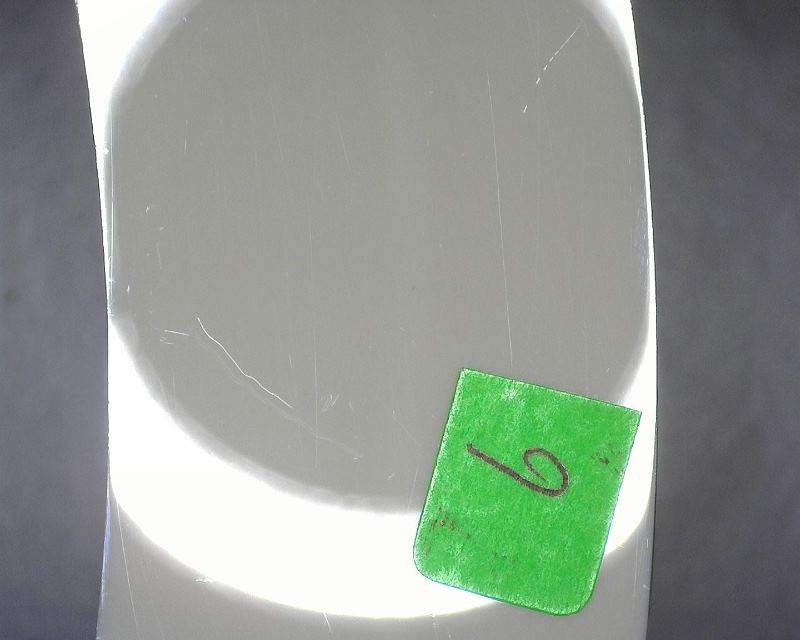scratch: (198, 312, 297, 412), (484, 66, 515, 366), (522, 21, 582, 115), (115, 509, 141, 632), (106, 107, 120, 306), (159, 323, 192, 343), (125, 283, 134, 298)
